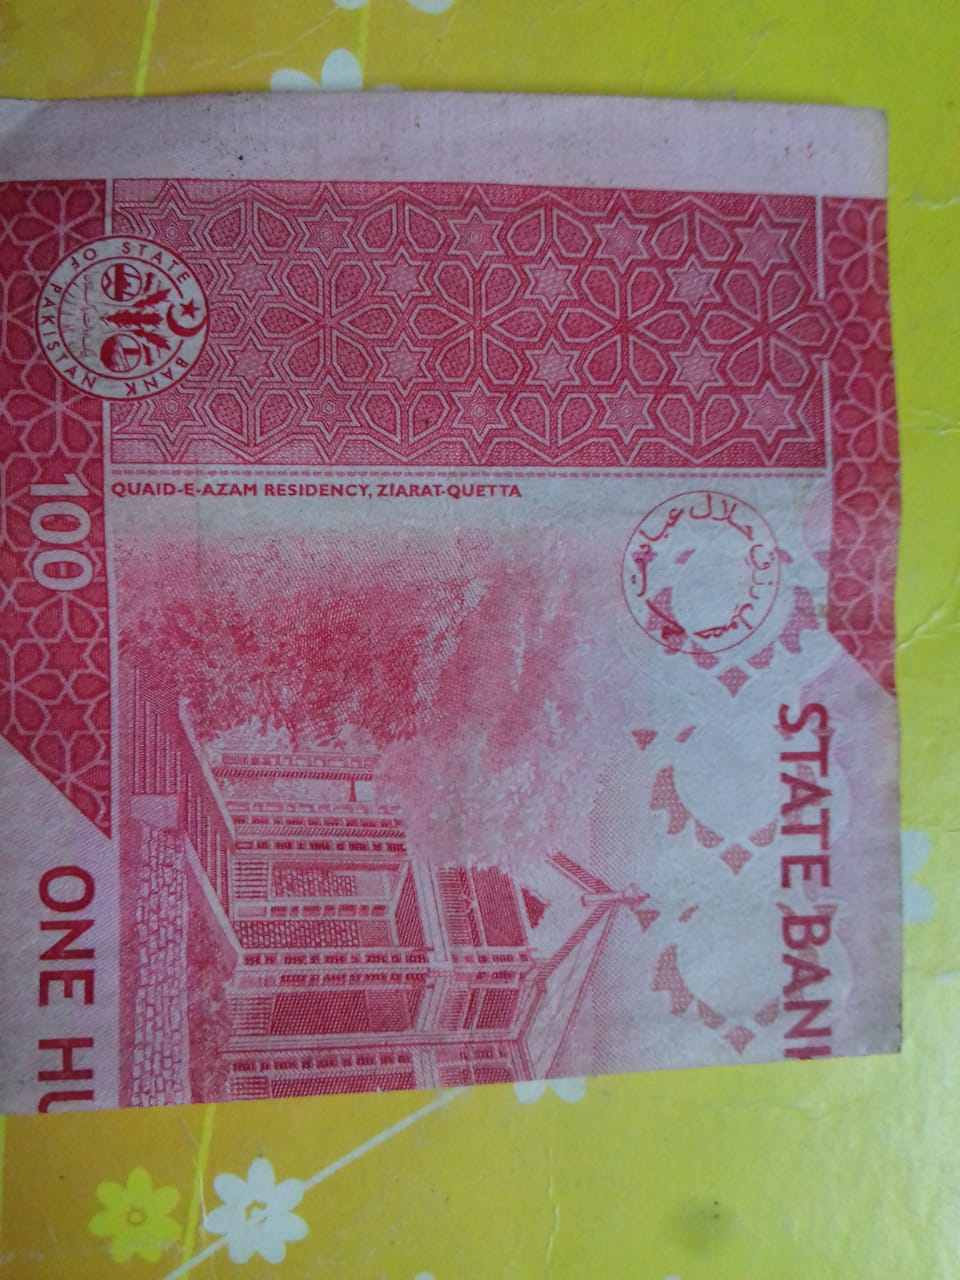100 rupee: (12, 71, 924, 1127)
